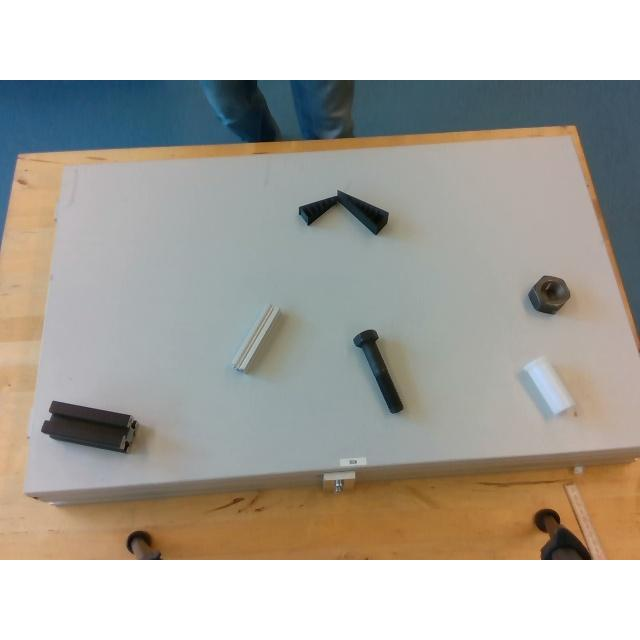F20_20_G: (232, 304, 280, 370)
M20_100: (353, 329, 403, 411)
M30: (528, 276, 570, 312)
S40_40_B: (41, 401, 136, 452)
Spacer: (522, 357, 574, 413)
